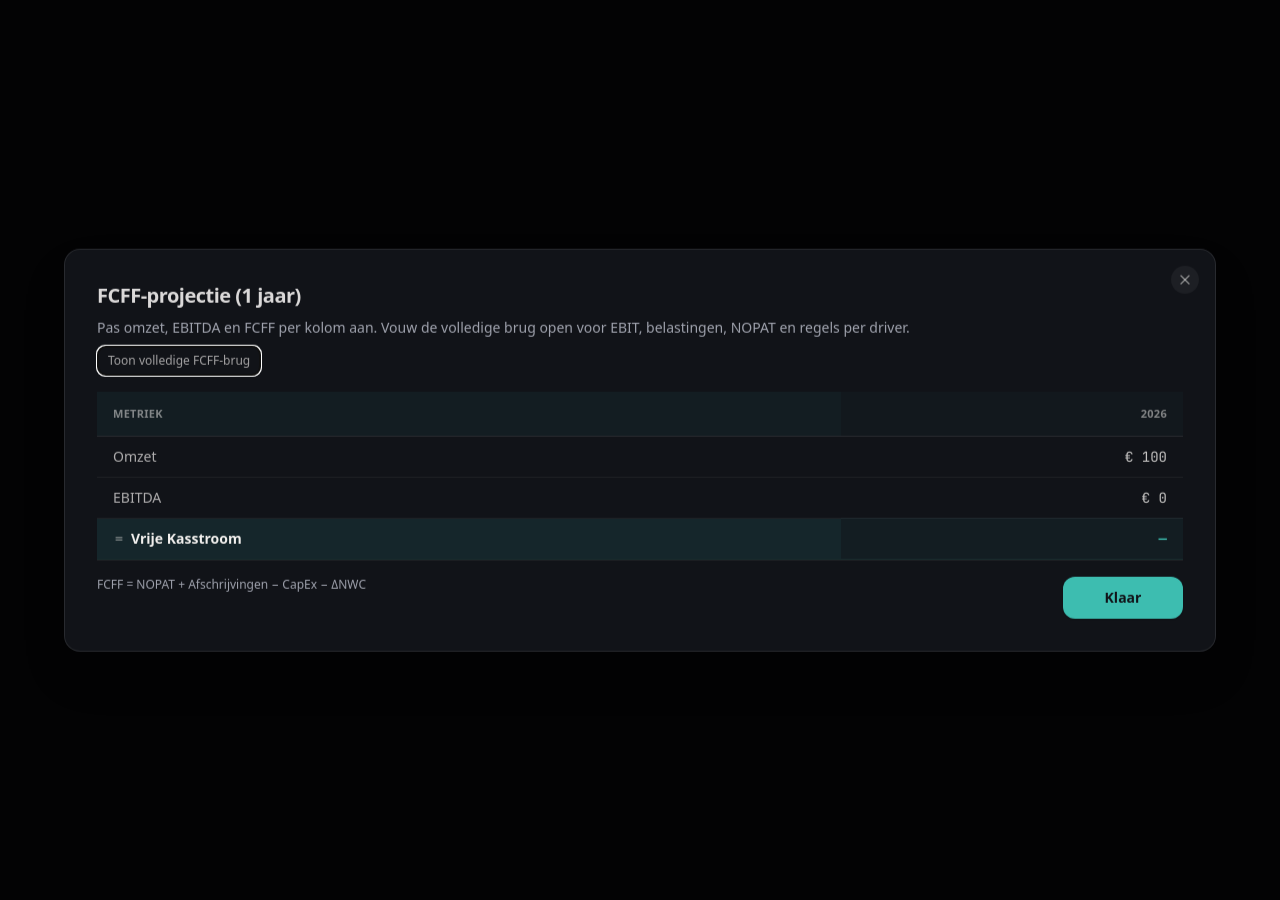
Test: DCF input presentation in nl › shows unresolved cash flow as a dash while an observed zero remains editable
Expected: the text "—" is shown, left=840, top=518, right=1183, bottom=559
What coordinates should you click on to do the following:
click the cell "€ 0"
I would click on:
 (1154, 497)
Its box is left=840, top=477, right=1183, bottom=518.
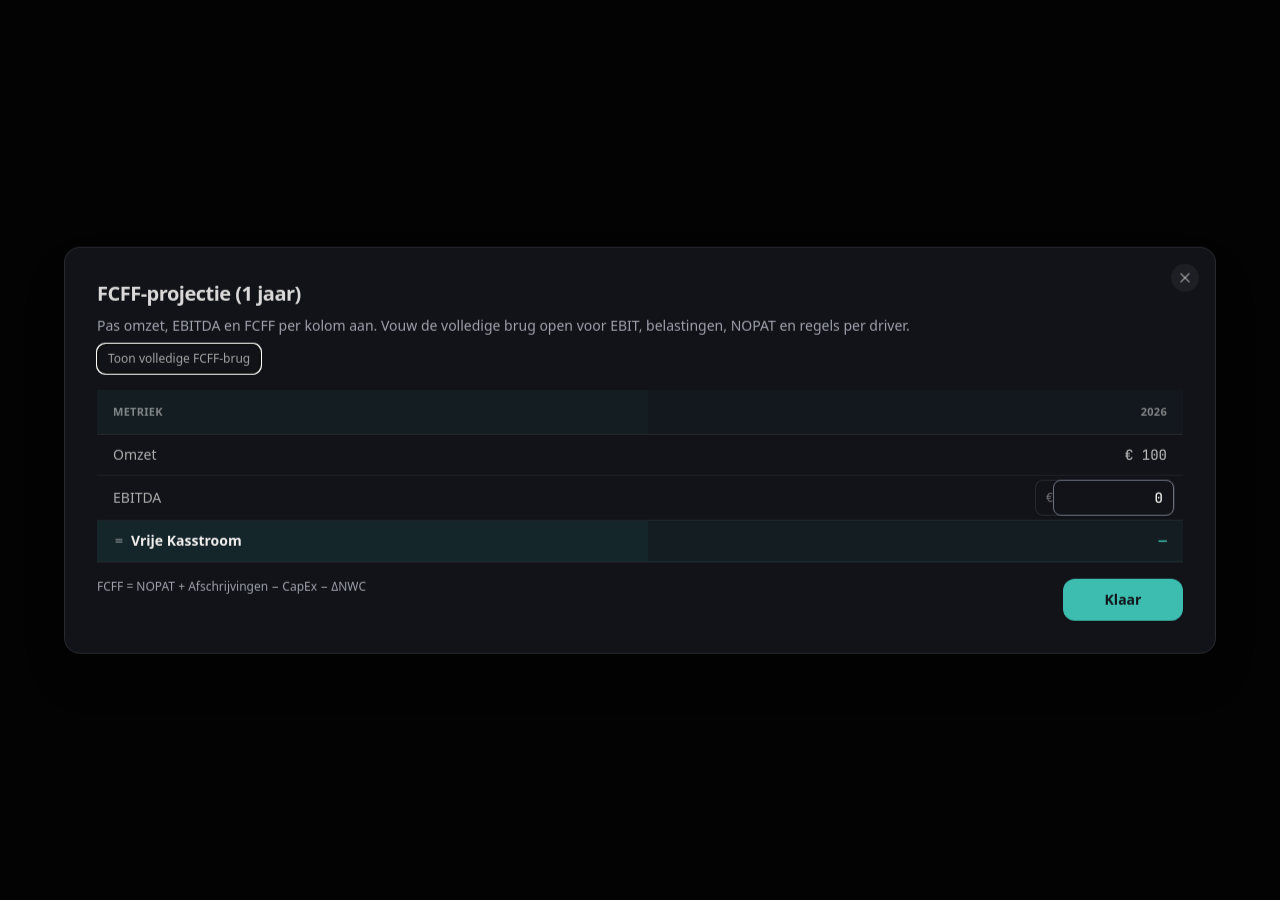
Now the field named "ebitda 2026" holds "0", box left=1053, top=479, right=1174, bottom=515
